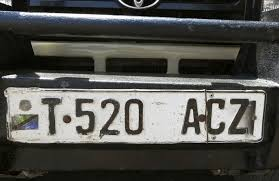T: (39, 95, 64, 136)
